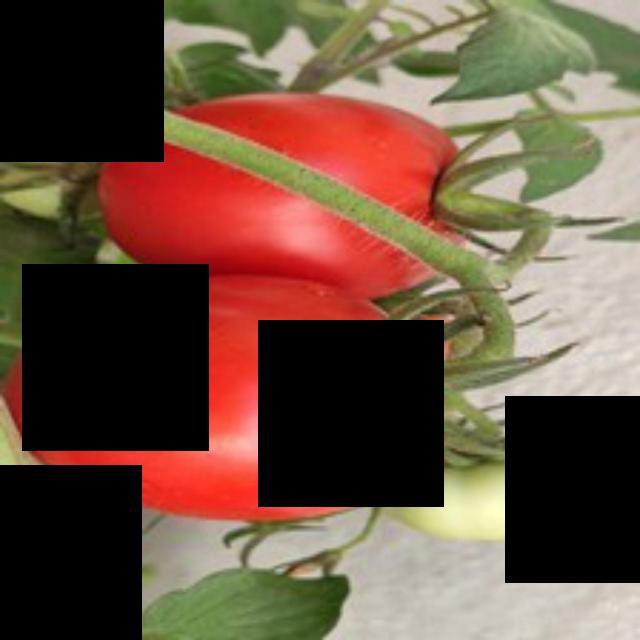tomato: (9, 250, 442, 537), (107, 83, 465, 314)
